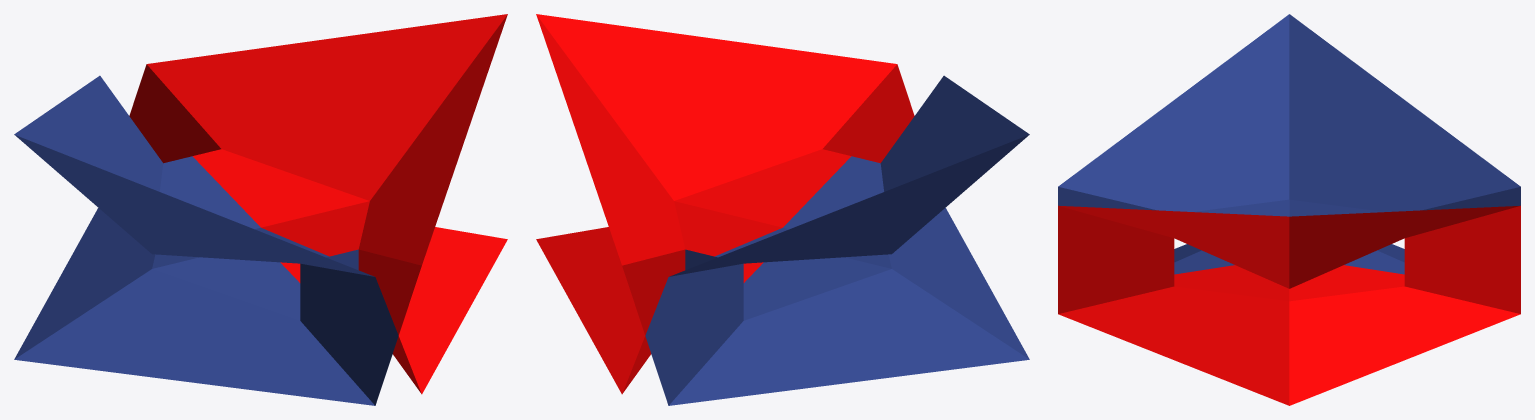
The model's file is enneper_magnet.gltf.
3 views of the same model, side by side, from view 1: azimuth 30°, elevation 25°; view 2: azimuth 150°, elevation 25°; view 3: azimuth 270°, elevation 25° (orthographic). The views are drawn at different scales.
Parts seen in each view (by area): view 1: enneper_magnet_glb; view 2: enneper_magnet_glb; view 3: enneper_magnet_glb.
Boxes of the visible parts, left/top/right/bottom form: enneper_magnet_glb: left=14, top=14, right=507, bottom=405; enneper_magnet_glb: left=536, top=14, right=1029, bottom=405; enneper_magnet_glb: left=1058, top=14, right=1520, bottom=405.
Bounding box in the file's own units: 1.33 × 0.581 × 1.29.
1 material, 1 textured.
